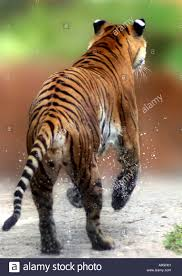tiger: (1, 15, 151, 255)
